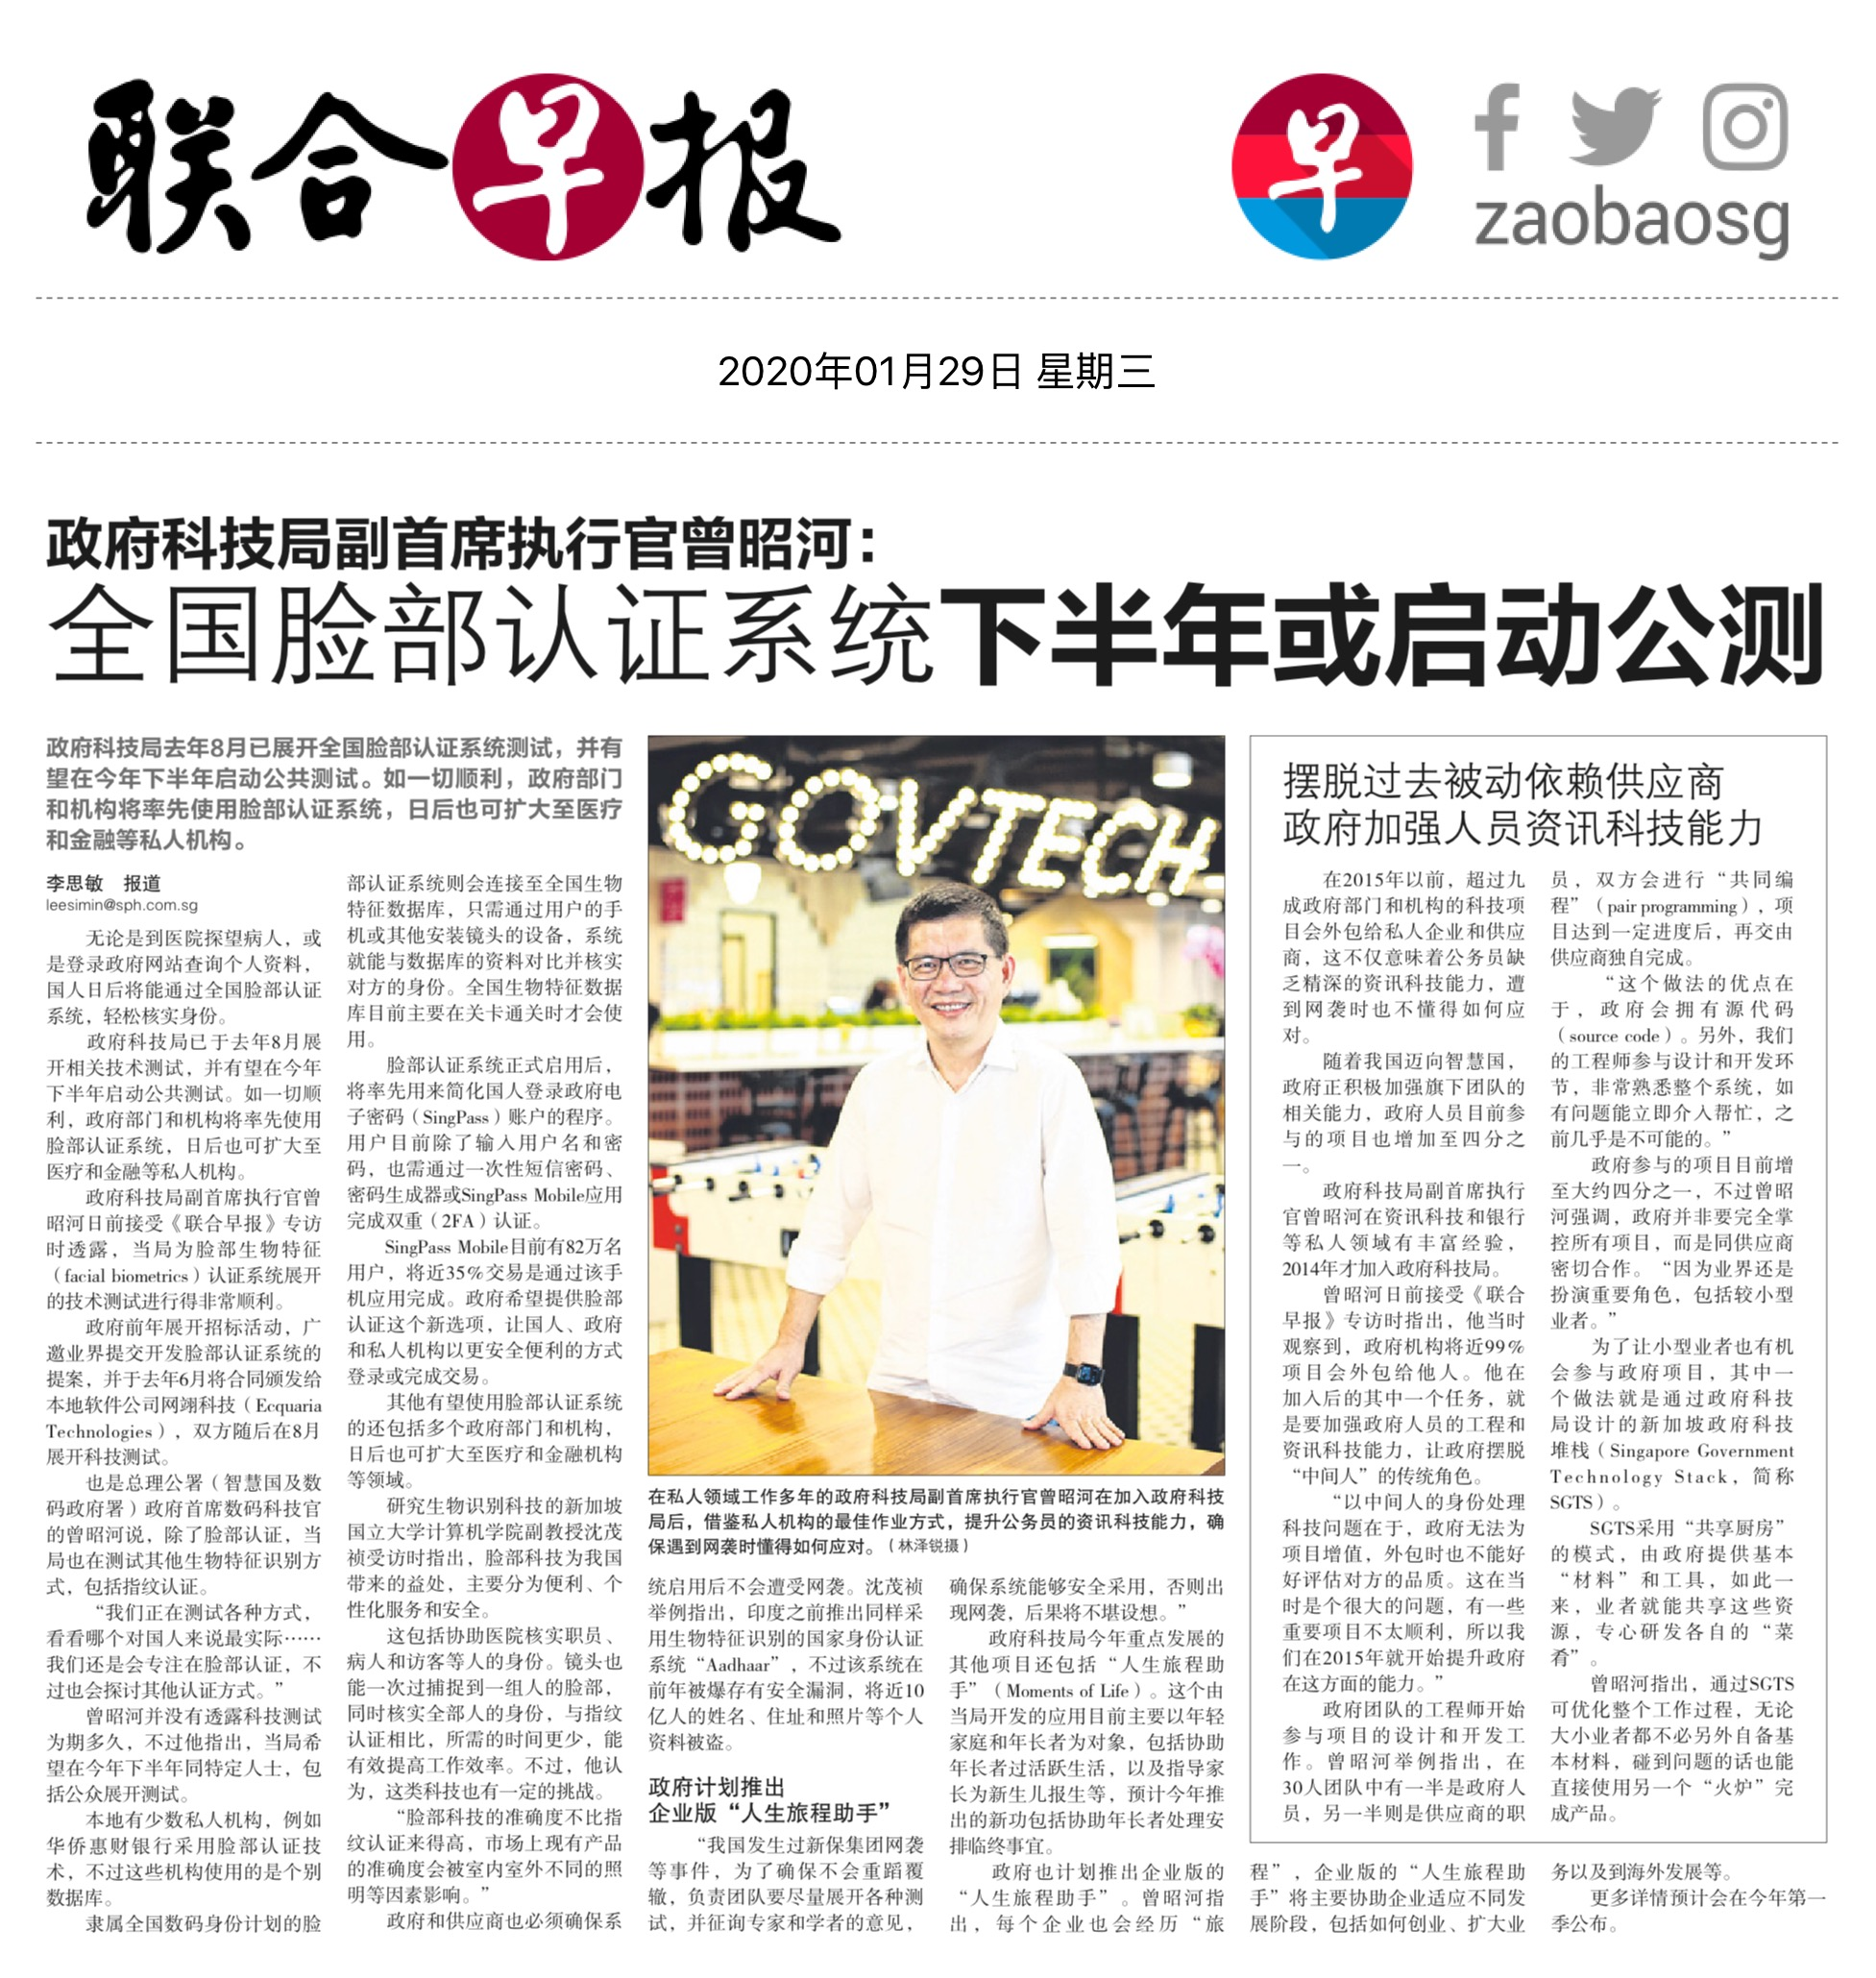heading_test: (35, 569, 1844, 698)
